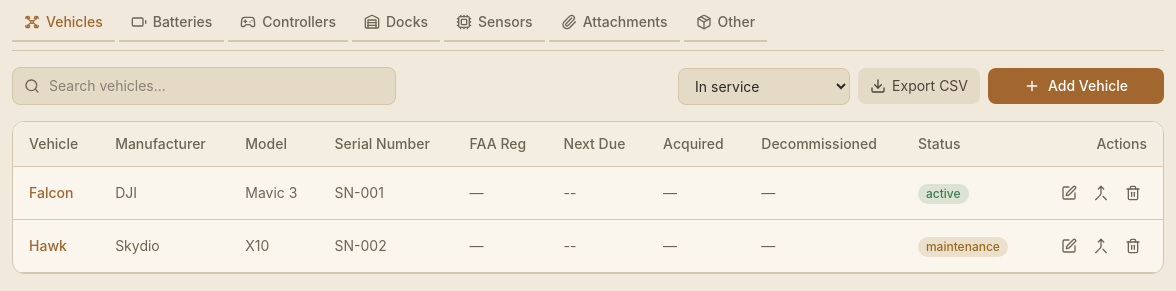
it: FleetPage › switches tabs and loads the batteries endpoint
The image size is (1176, 291).
expect the link "Falcon" is shown: met, box [29,184,73,201]
Click the button "Batteries". click: point(171, 27)
box: [119,12,224,42]
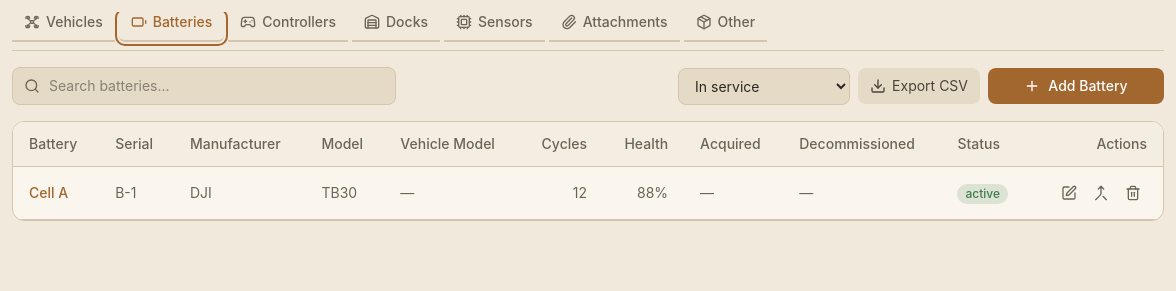
expect the link "Cell A" is shown: met, box [29,184,68,201]
